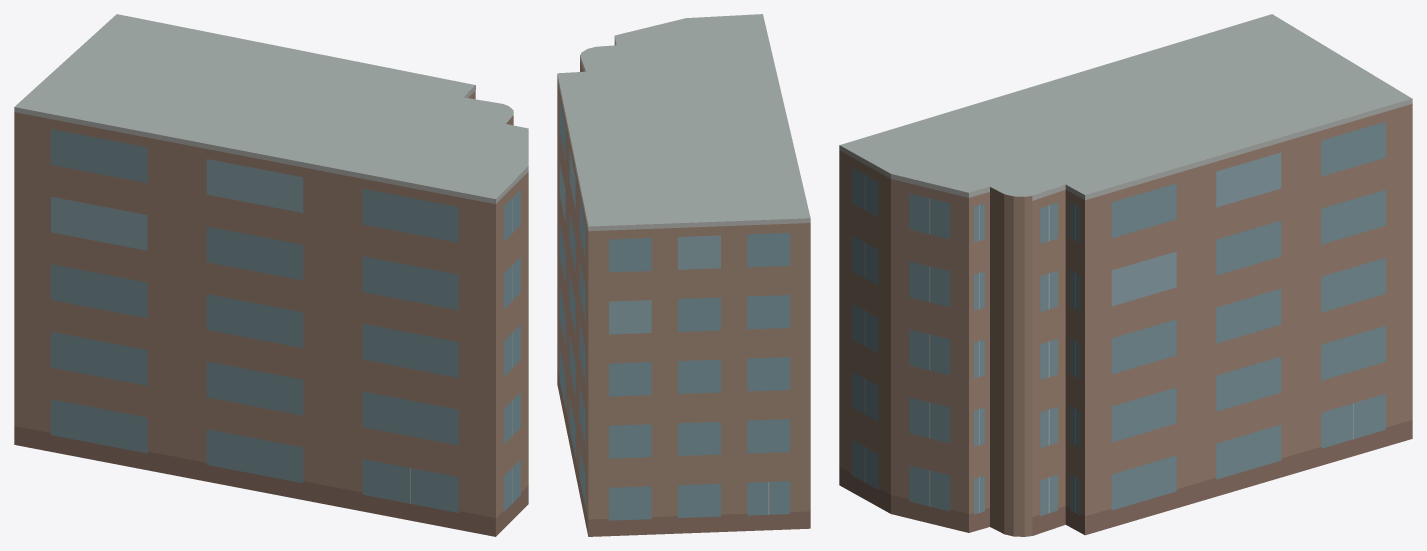
Rendered from survey-upis-32817565.glb.
3 renders of one model, left to right at view 1: azimuth 30°, elevation 25°; view 2: azimuth 150°, elevation 25°; view 3: azimuth 270°, elevation 25°, orthographic. The views are drawn at different scales.
Parts seen in each view (by area): view 1: survey-upis-32817565.tmp; view 2: survey-upis-32817565.tmp; view 3: survey-upis-32817565.tmp.
Part boxes in pixels (x1,y1,x2,y2): survey-upis-32817565.tmp: (14, 14, 528, 536); survey-upis-32817565.tmp: (557, 14, 810, 536); survey-upis-32817565.tmp: (839, 14, 1412, 536).
Bounding box in the file's own units: 18.79 × 16.3 × 24.9.
